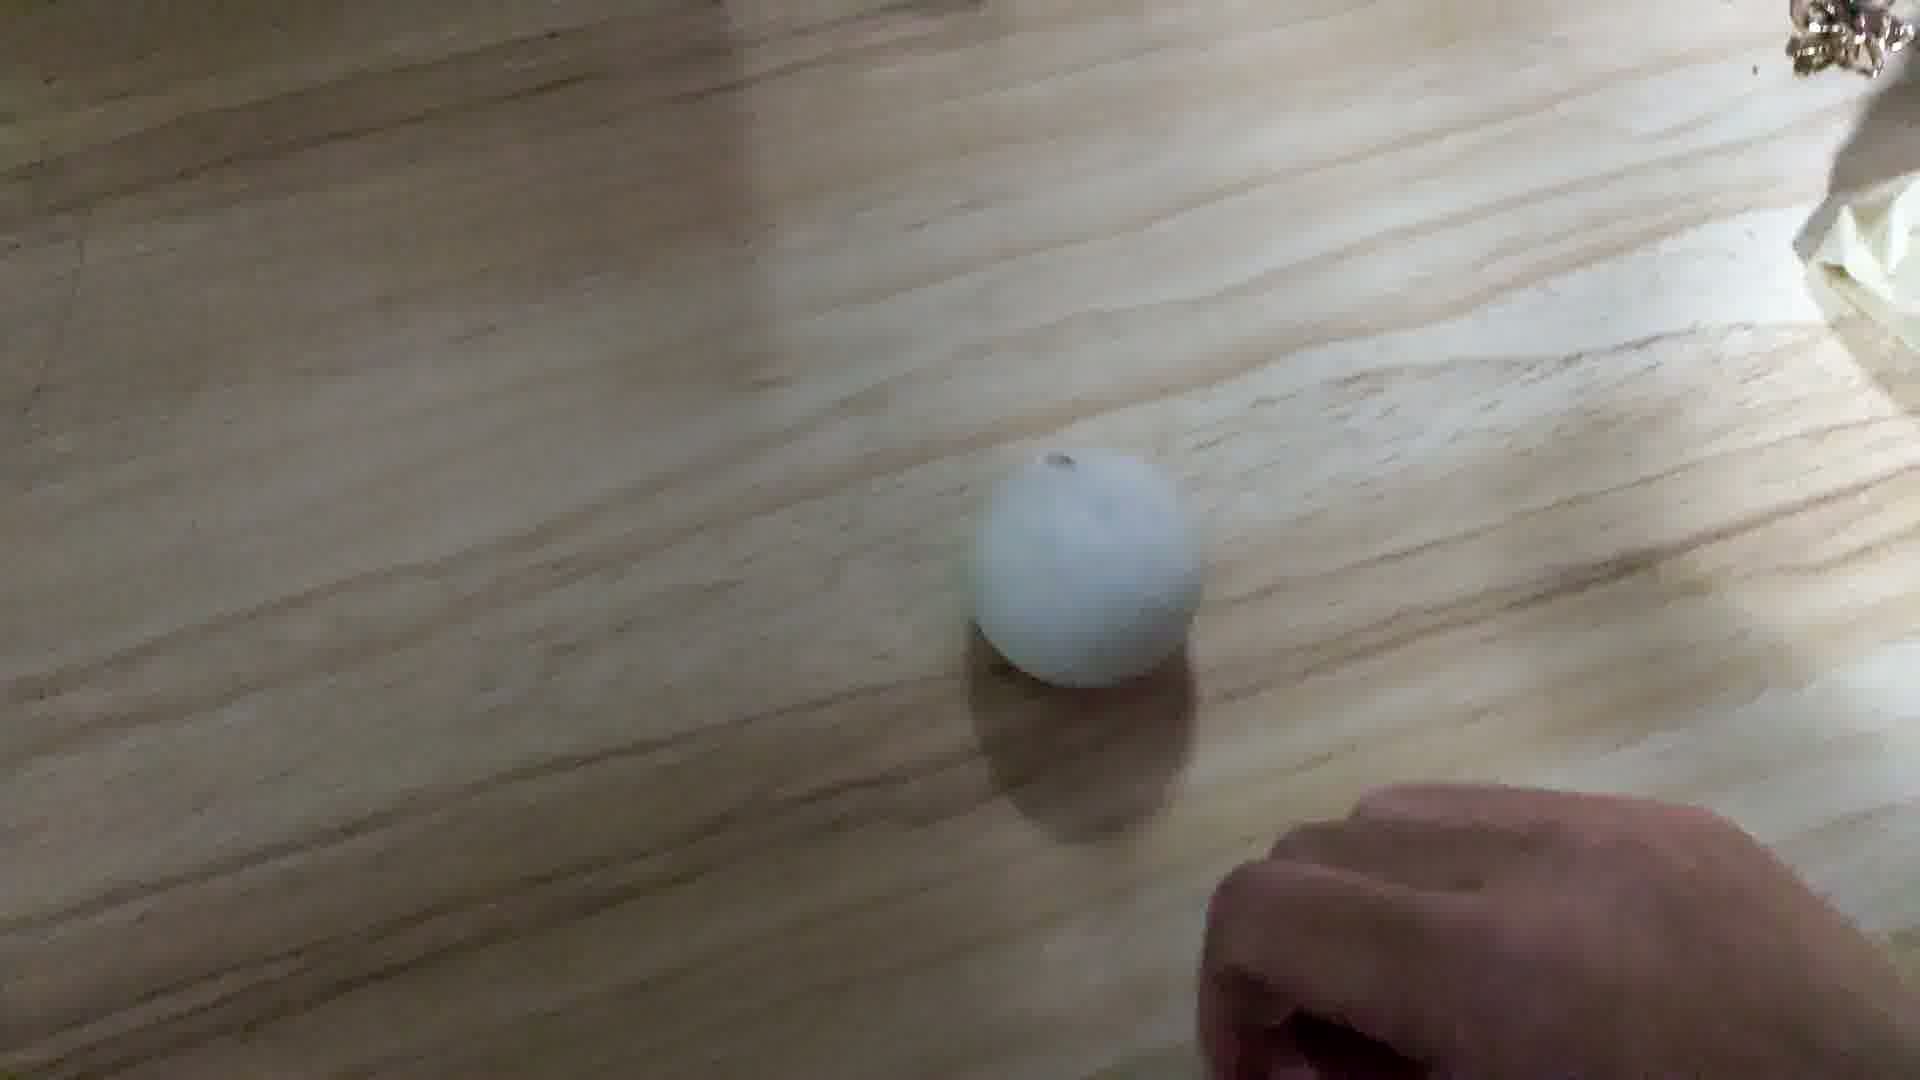Ball: (963, 450, 1201, 695)
